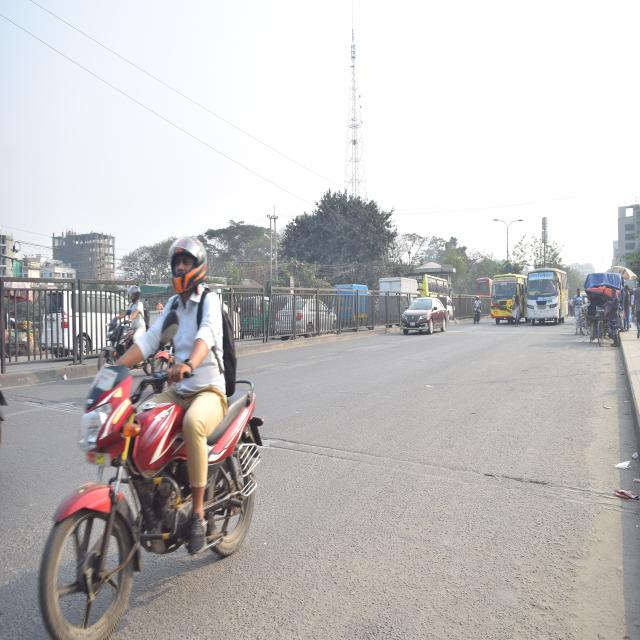bus: (519, 266, 567, 326), (487, 265, 526, 323), (471, 293, 484, 330)
car: (402, 288, 451, 346)
motorbike: (24, 325, 278, 640)
